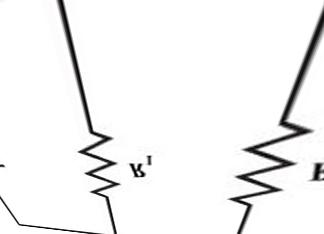resistor: (216, 114, 318, 209), (75, 117, 119, 207)
